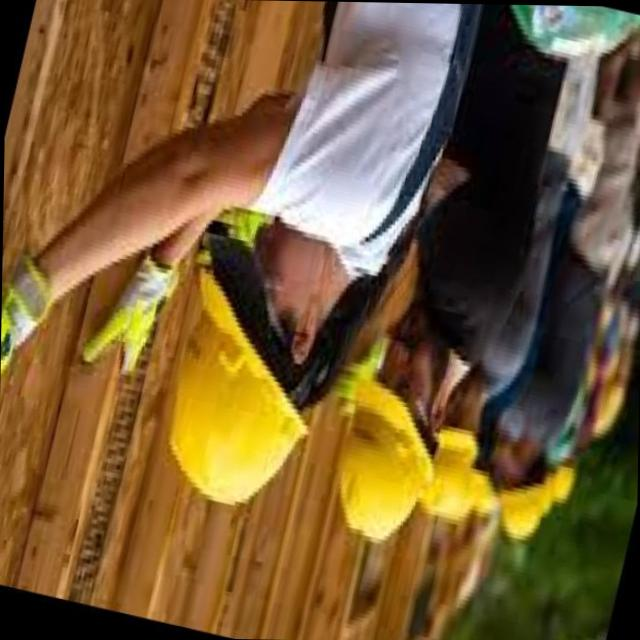gloved: (78, 240, 184, 386), (0, 244, 59, 437)
